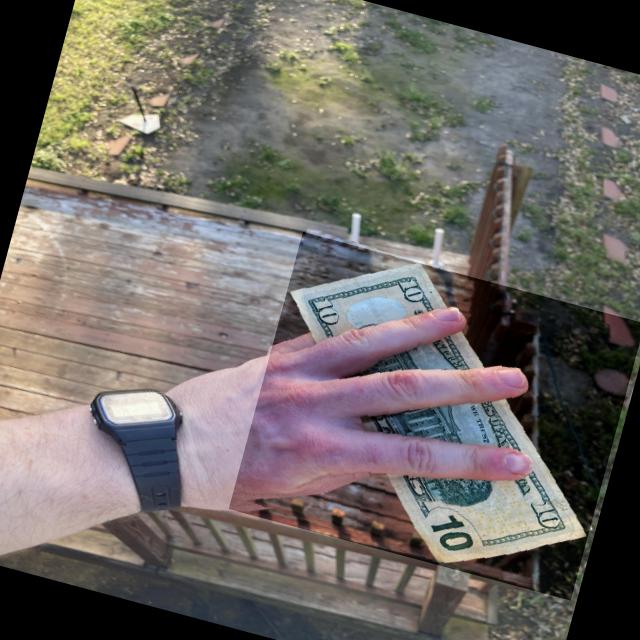ten: (275, 225, 587, 612)
